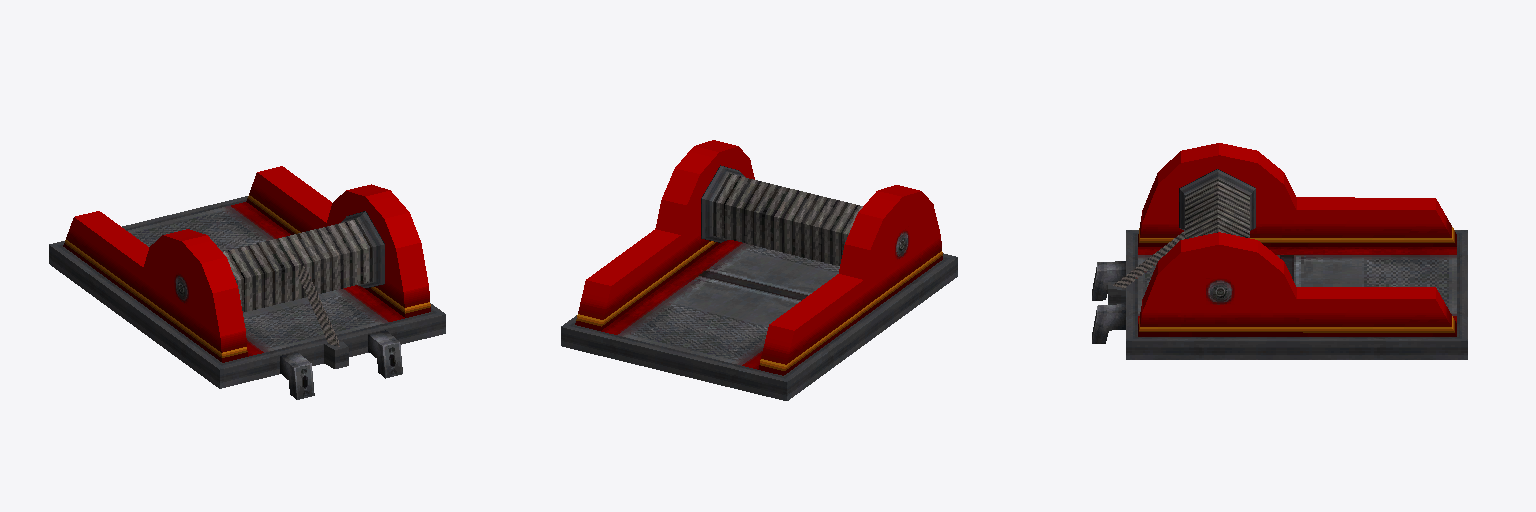
3 views of the same model, side by side, from view 1: azimuth 30°, elevation 25°; view 2: azimuth 150°, elevation 25°; view 3: azimuth 270°, elevation 25° (orthographic).
Parts seen in each view (by area): view 1: polygon0, polygon1; view 2: polygon0, polygon1; view 3: polygon0, polygon1.
Boxes of the visible parts, x1,y1,x2,y2 form: polygon0: [49, 166, 445, 399]; polygon1: [223, 219, 372, 346]; polygon0: [561, 140, 957, 400]; polygon1: [714, 174, 862, 265]; polygon0: [1092, 143, 1467, 359]; polygon1: [1113, 180, 1249, 287].
Size of the model in its own units: 12.12 by 6.37 by 17.44.
2 materials, 1 textured.